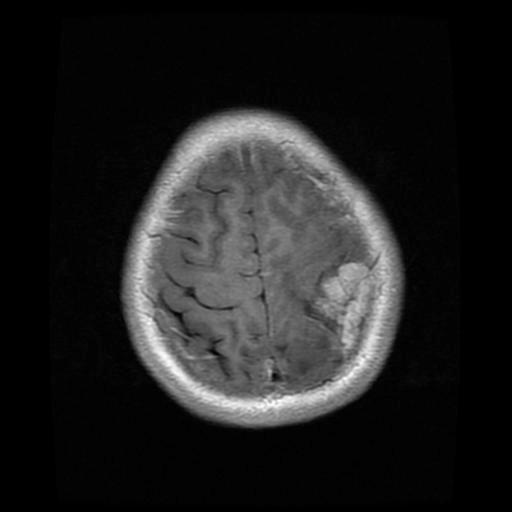Tumour-Meningioma: (294, 239, 387, 375)
